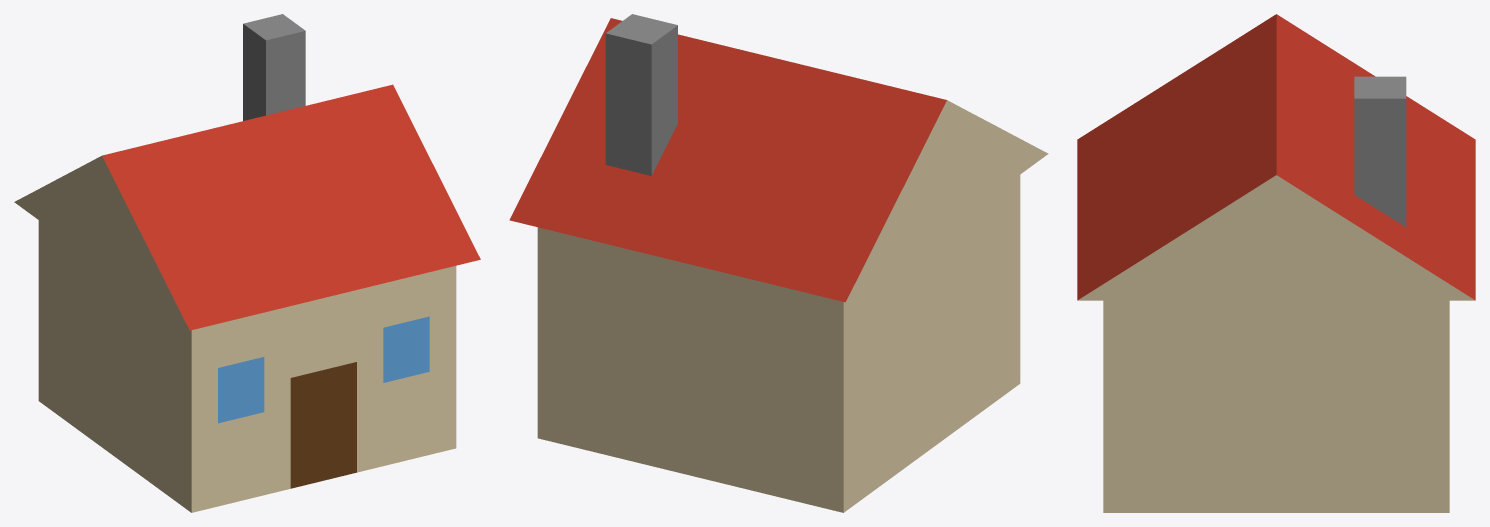
Rendered from casa.obj.
The picture shows the model from 3 angles, left to right: view 1: azimuth 30°, elevation 25°; view 2: azimuth 150°, elevation 25°; view 3: azimuth 270°, elevation 25°; orthographic projection. The views are drawn at different scales.
Size of the model in its own units: 2.2 by 2.5 by 2.3.
